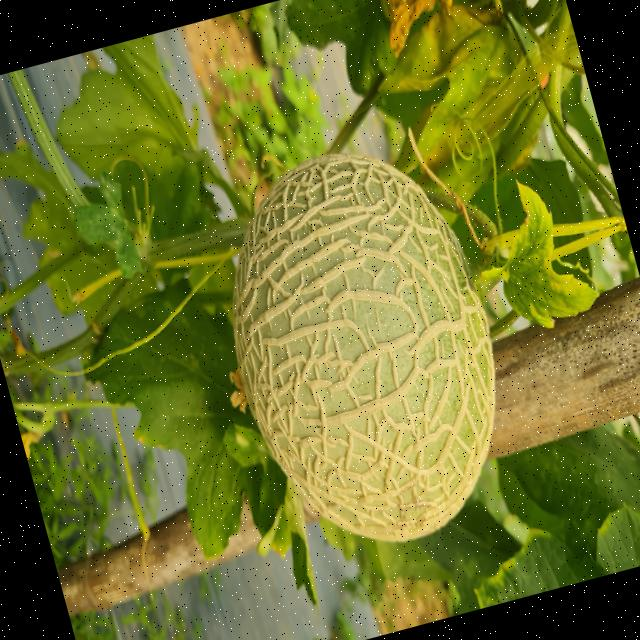melon: (232, 154, 494, 542)
